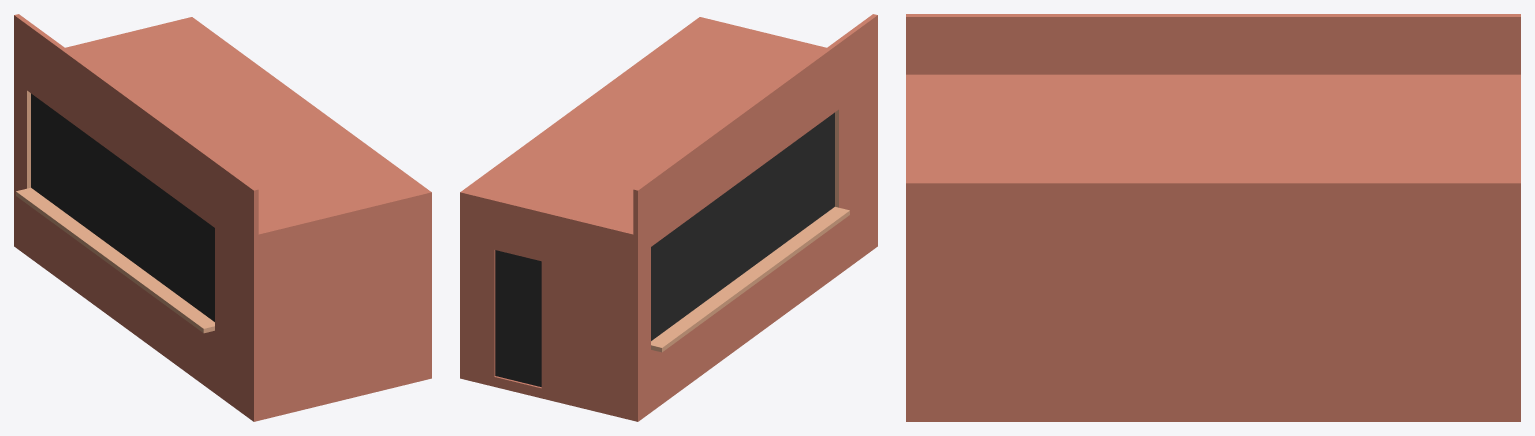
Rendered from chesterpilk.glb.
3 renders of one model, left to right at view 1: azimuth 30°, elevation 25°; view 2: azimuth 150°, elevation 25°; view 3: azimuth 270°, elevation 25°, orthographic. The views are drawn at different scales.
Parts seen in each view (by area): view 1: Cube; view 2: Cube; view 3: Cube.
Boxes of the visible parts, <box> form: Cube: <box>14,14,431,421</box>; Cube: <box>460,14,877,421</box>; Cube: <box>906,14,1520,421</box>.
Size of the model in its own units: 3.19 by 3.73 by 7.
